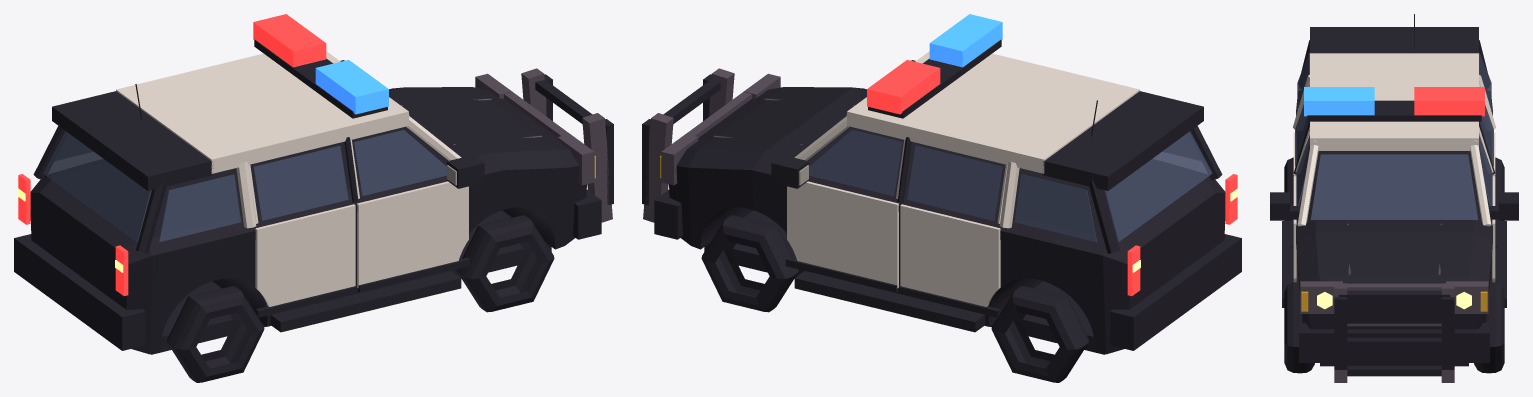
File: veh.police-suv.lod2.glb
The picture shows the model from 3 angles, left to right: view 1: azimuth 30°, elevation 25°; view 2: azimuth 150°, elevation 25°; view 3: azimuth 270°, elevation 25°; orthographic projection. The views are drawn at different scales.
Parts seen in each view (by area): view 1: body, wheelRR, wheelFR, sirenR, sirenL, lightsFront, lightsBrake; view 2: body, wheelRL, wheelFL, sirenL, sirenR, lightsFront, lightsBrake; view 3: body, lightsFront, sirenL, sirenR, wheelFL, wheelFR, wheelRL, wheelRR.
Part boxes in pixels (x1,y1,x2,y2): body: (14, 39, 613, 354); wheelRR: (167, 286, 264, 382); wheelFR: (457, 215, 554, 312); sirenR: (315, 60, 388, 114); sirenL: (253, 14, 326, 67); lightsFront: (475, 73, 595, 185); lightsBrake: (17, 174, 128, 295); body: (642, 39, 1241, 354); wheelRL: (991, 286, 1088, 382); wheelFL: (701, 215, 798, 312); sirenL: (867, 60, 940, 114); sirenR: (929, 14, 1002, 67); lightsFront: (660, 73, 780, 185); lightsBrake: (1127, 174, 1238, 295); body: (1270, 14, 1518, 382); lightsFront: (1300, 281, 1488, 313); sirenL: (1414, 87, 1484, 116); sirenR: (1304, 87, 1374, 116); wheelFL: (1474, 282, 1504, 373); wheelFR: (1284, 282, 1314, 373); wheelRL: (1495, 157, 1504, 220); wheelRR: (1284, 157, 1293, 220).
Size of the model in its own units: 5.24 by 2.42 by 2.5.
